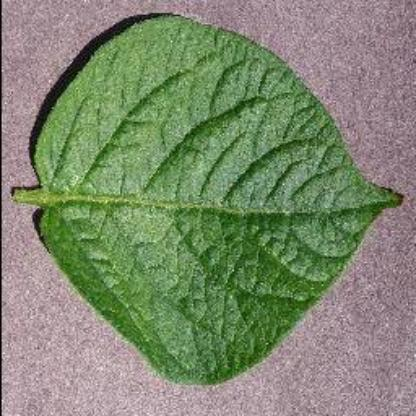Healthy-plant: (16, 13, 404, 393)
